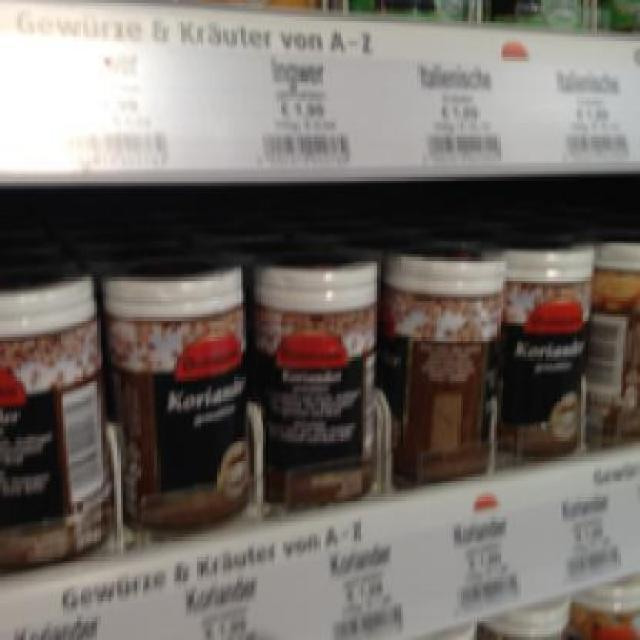Spices: (96, 254, 250, 523), (0, 267, 112, 563), (252, 245, 378, 506), (380, 237, 503, 483), (486, 232, 594, 452)
